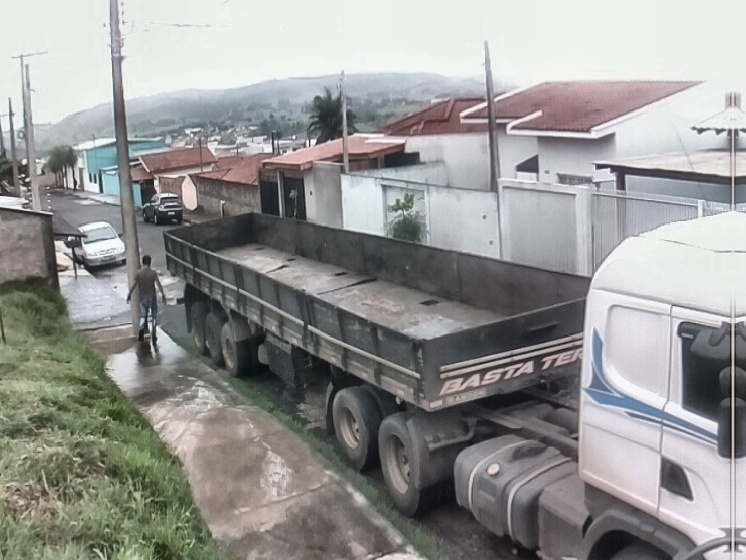person: (123, 254, 167, 346)
